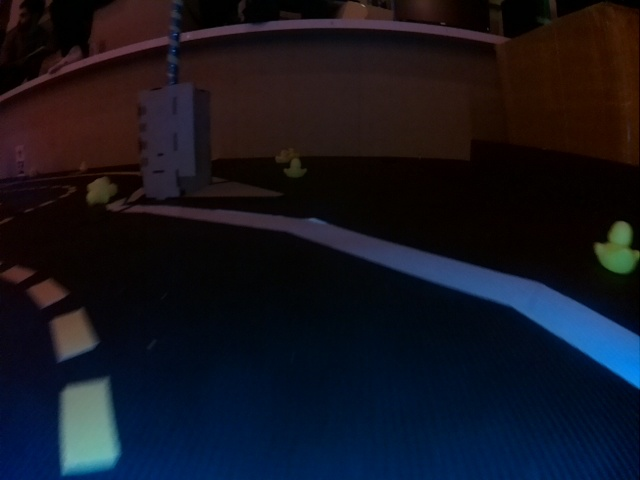Duckie: (594, 221, 632, 274), (283, 160, 310, 179), (87, 183, 107, 204), (276, 150, 289, 162)
QR code: (17, 162, 27, 175)
